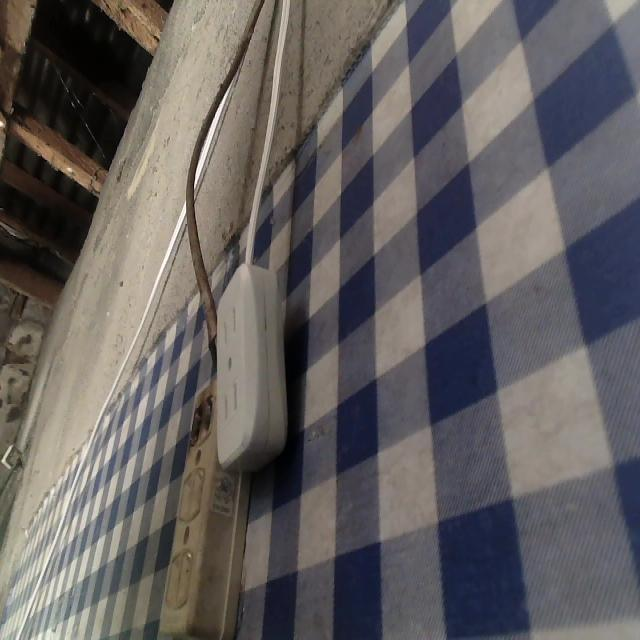-: (187, 396, 220, 441)
